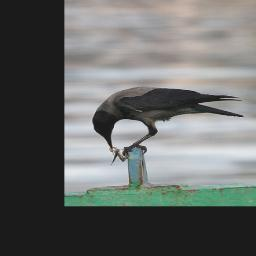Crow: (92, 85, 245, 156)
